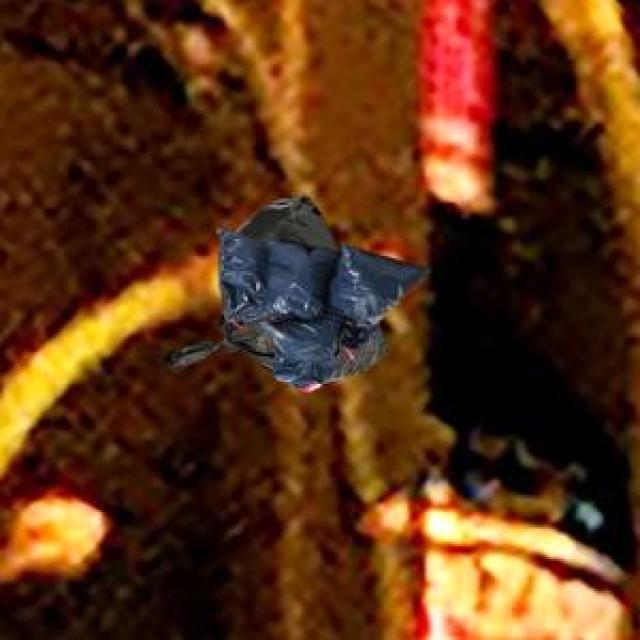Garbage_Bag: (159, 194, 385, 378), (216, 225, 428, 387)
